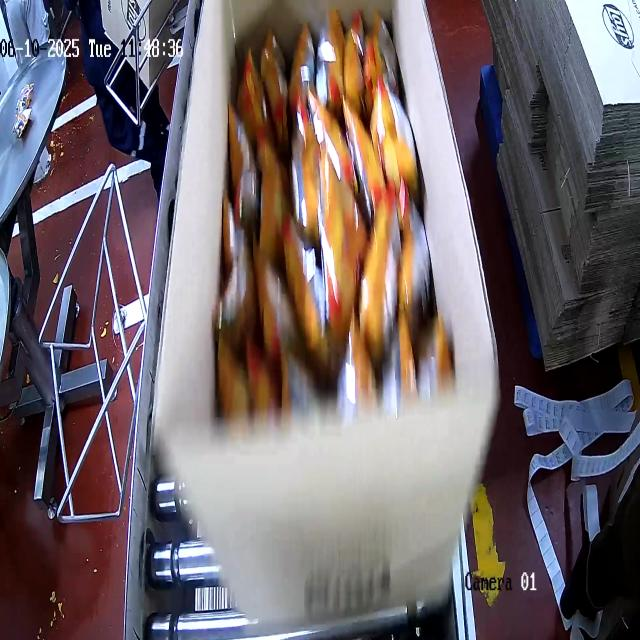FRENCH_CHEESE: (209, 4, 442, 417)
